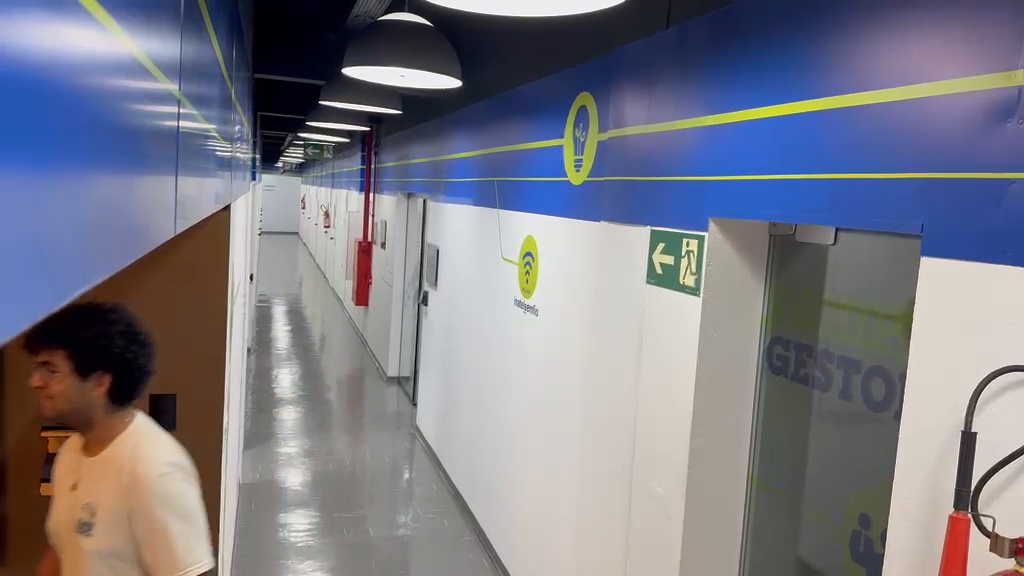person: (20, 302, 216, 572)
